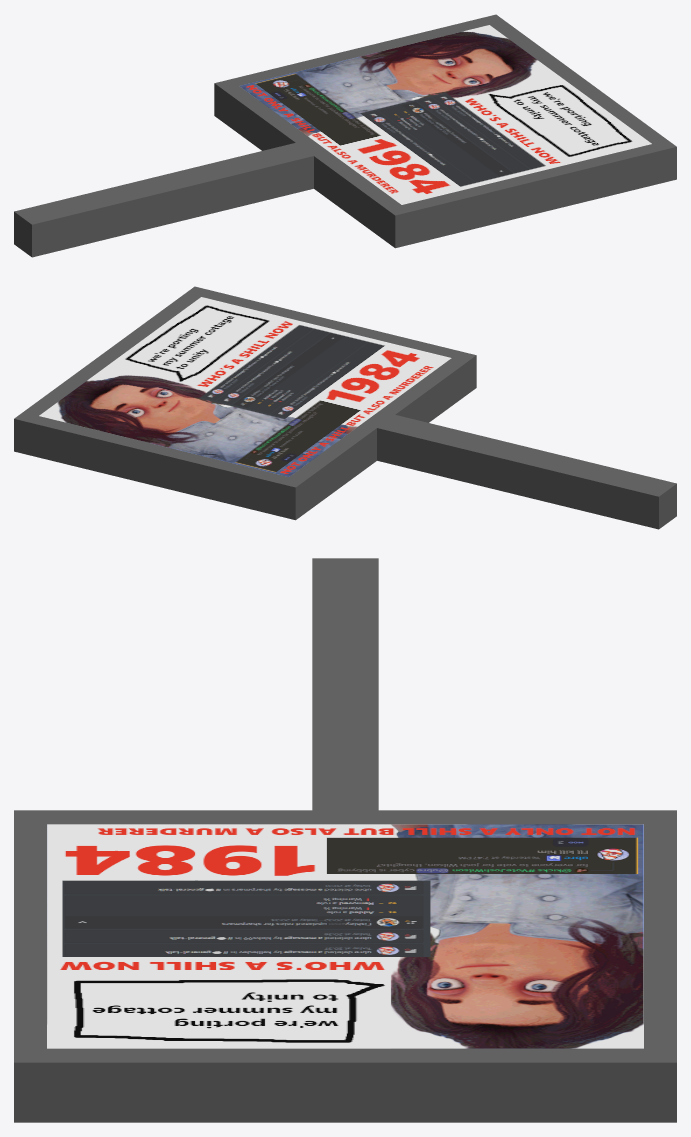
Rendered from the_truth_sign.fbx.
3 views of the same model, one above another, from view 1: azimuth 30°, elevation 25°; view 2: azimuth 150°, elevation 25°; view 3: azimuth 270°, elevation 25° (orthographic). The views are drawn at different scales.
Parts seen in each view (by area): view 1: mesh_2; view 2: mesh_2; view 3: mesh_2.
Boxes of the visible parts, x1=… form: mesh_2: x1=14, y1=14, x2=676, y2=257; mesh_2: x1=14, y1=286, x2=676, y2=529; mesh_2: x1=14, y1=558, x2=676, y2=1122.
Bounding box in the file's own units: 72 × 4 × 40.
2 materials, 1 textured.
